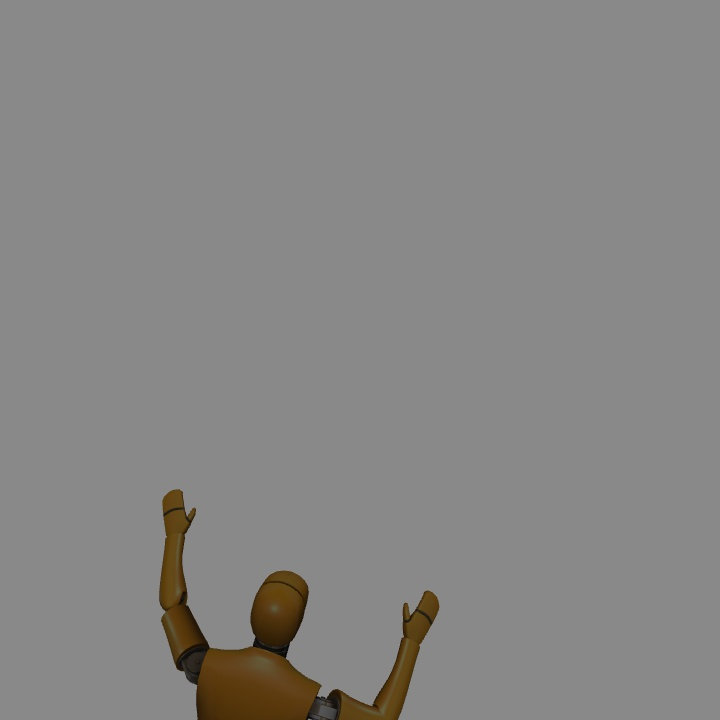victim: (163, 487, 441, 717)
